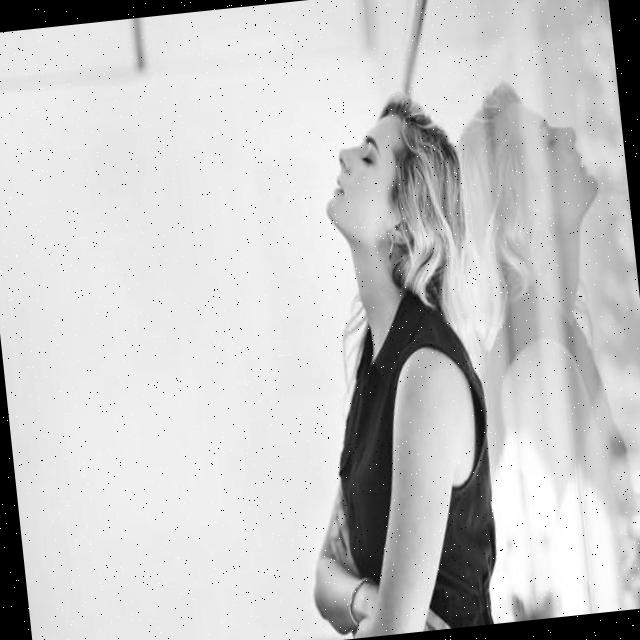Sadness: (315, 112, 421, 260)
